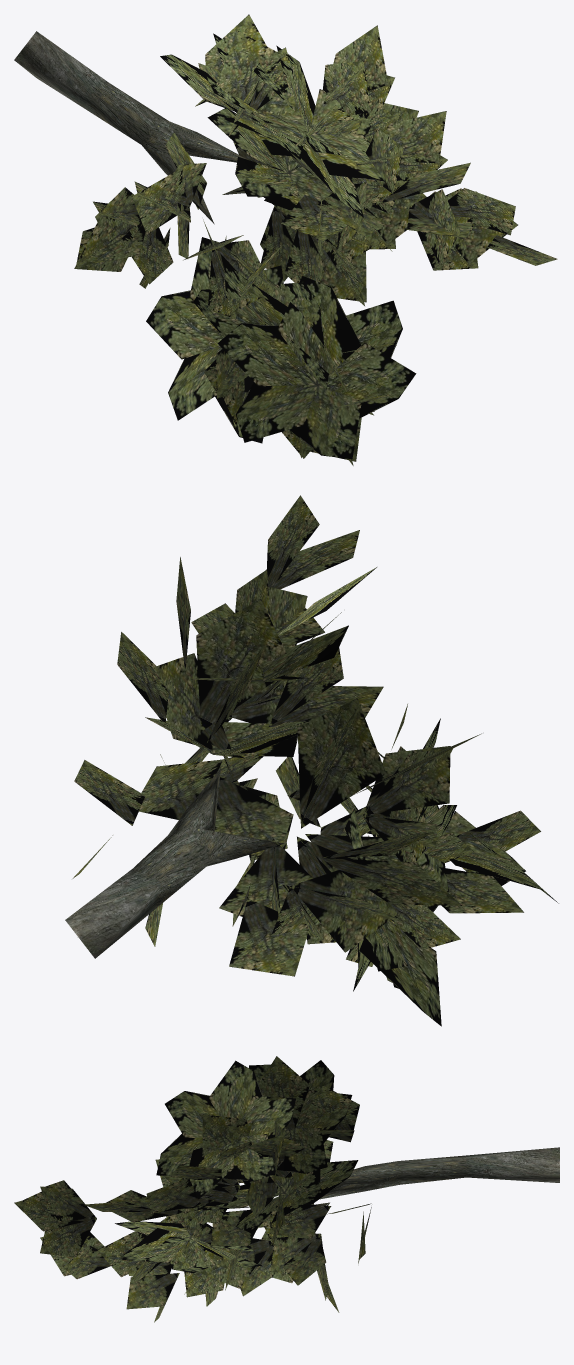
The model's file is shadow_tree_grey_oak_lg_a.glb.
3 renders of one model, top to bottom at view 1: azimuth 30°, elevation 25°; view 2: azimuth 150°, elevation 25°; view 3: azimuth 270°, elevation 25°, orthographic. The views are drawn at different scales.
Bounding box in the file's own units: 232 × 248 × 428.
2 materials, 2 textured.
